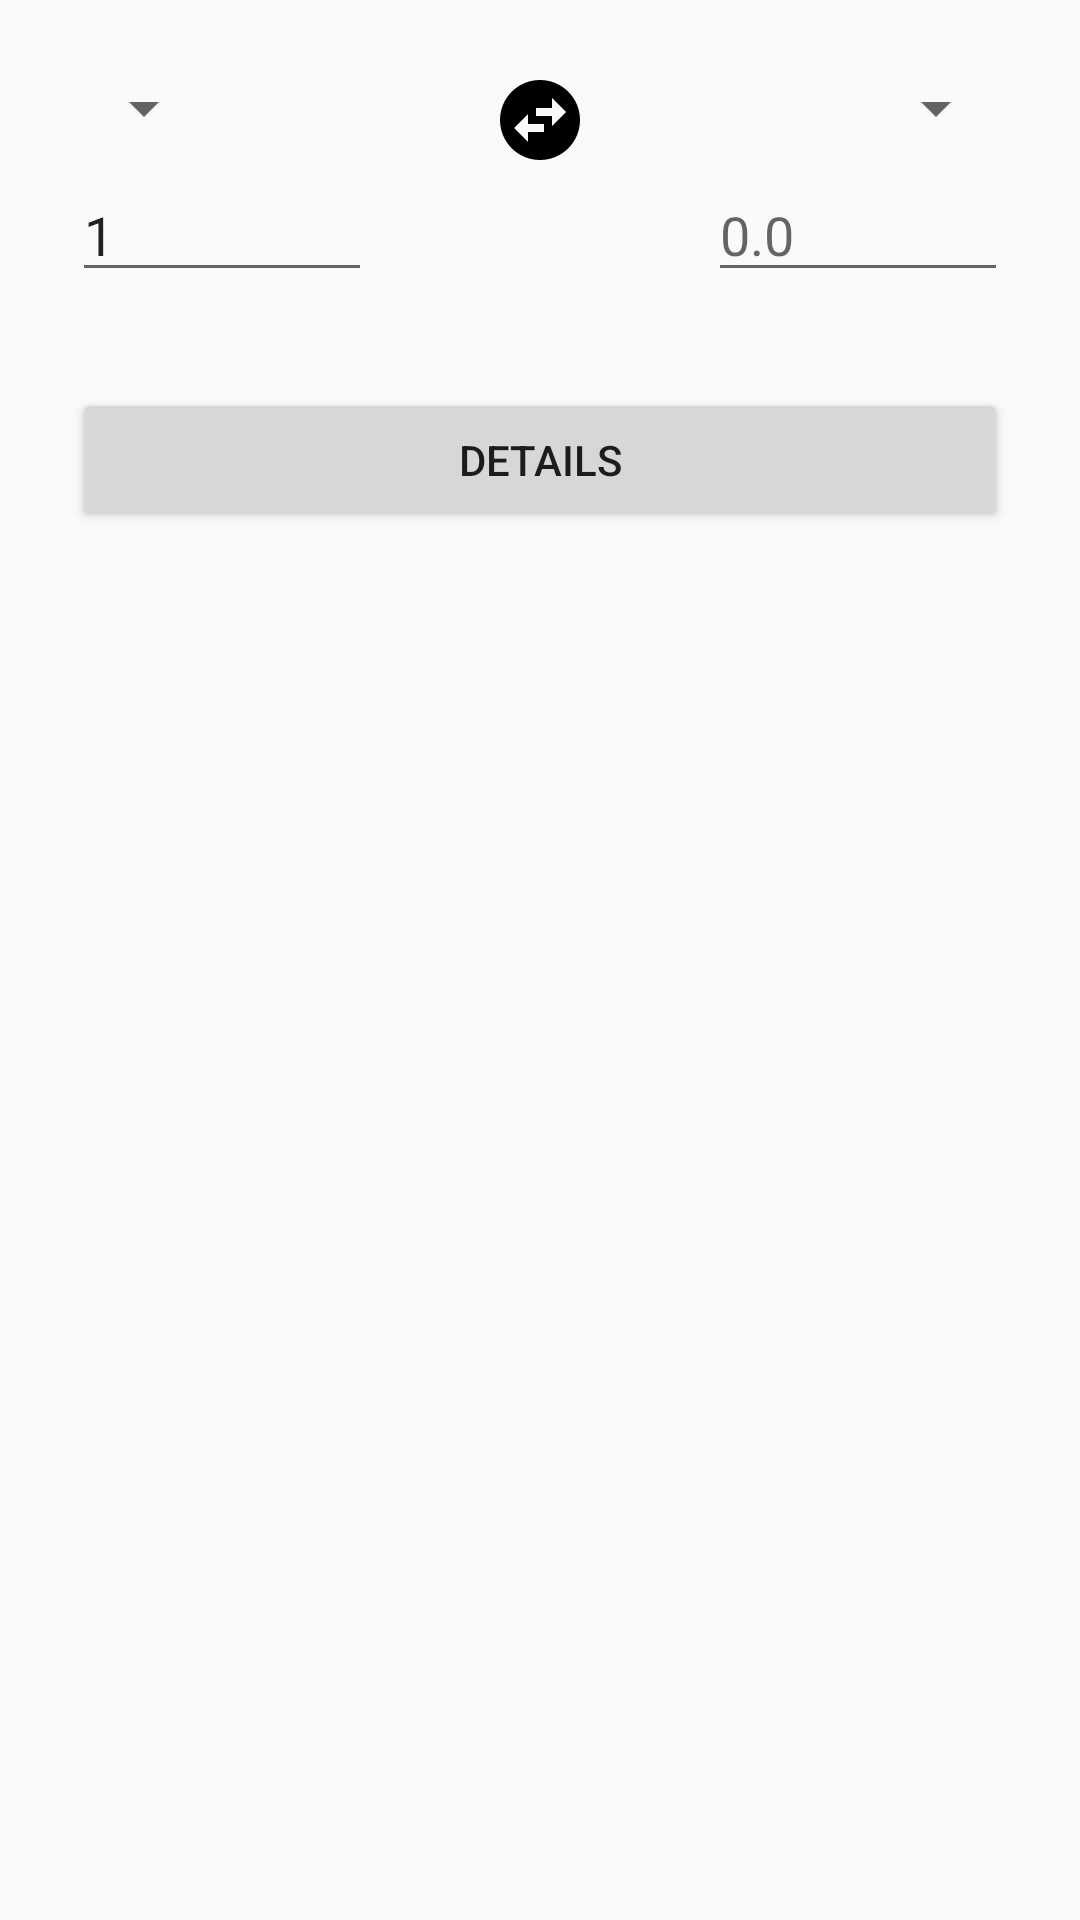

Icons on this 1080×1920 Android screen, each with its box as (x1, y1, x2, y2):
currency swap icon: (500, 80, 580, 160)
